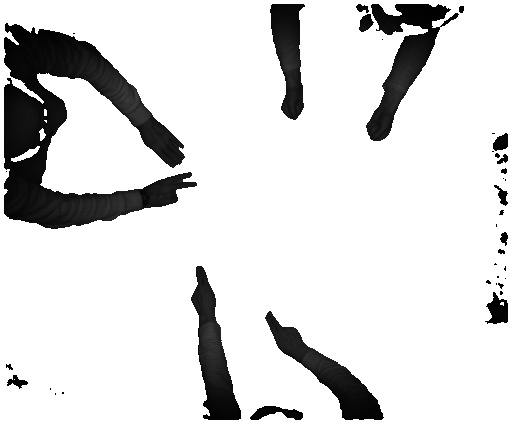fist: (360, 110, 399, 143), (280, 88, 303, 119)
hand: (141, 122, 189, 170), (264, 304, 305, 357), (148, 173, 199, 207), (184, 264, 215, 317)
